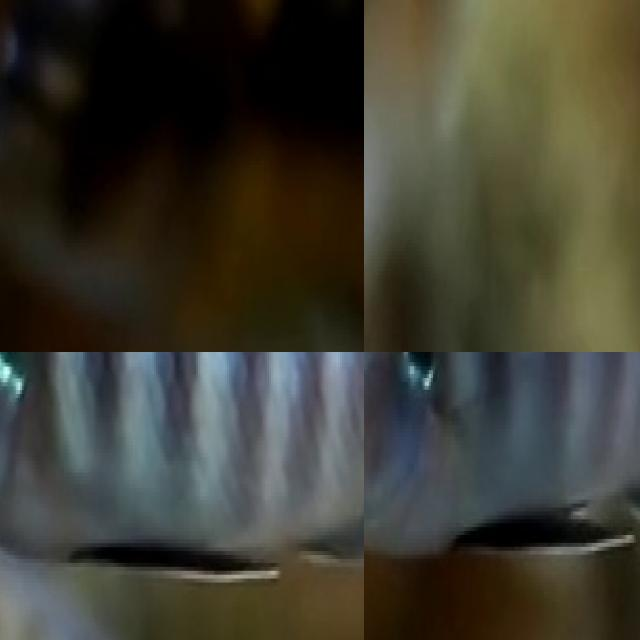fish: (0, 0, 364, 352), (0, 352, 260, 640)
